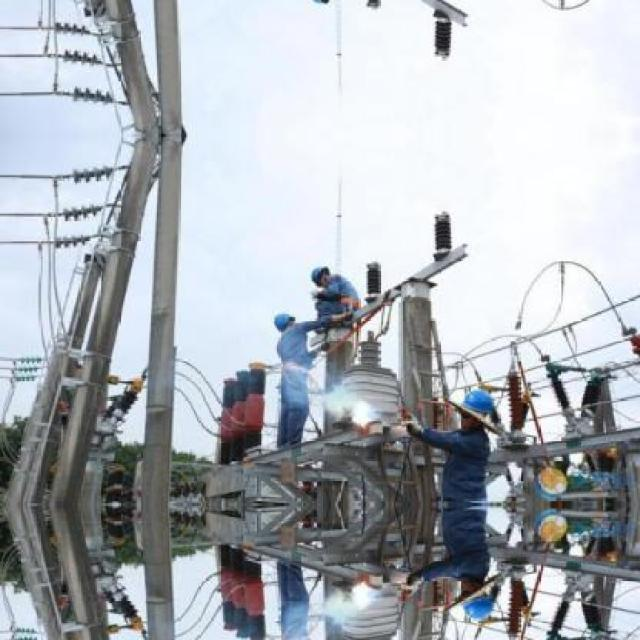helmet: (455, 578, 496, 622), (455, 386, 496, 429), (271, 309, 298, 334), (310, 261, 333, 287), (309, 0, 334, 8)
